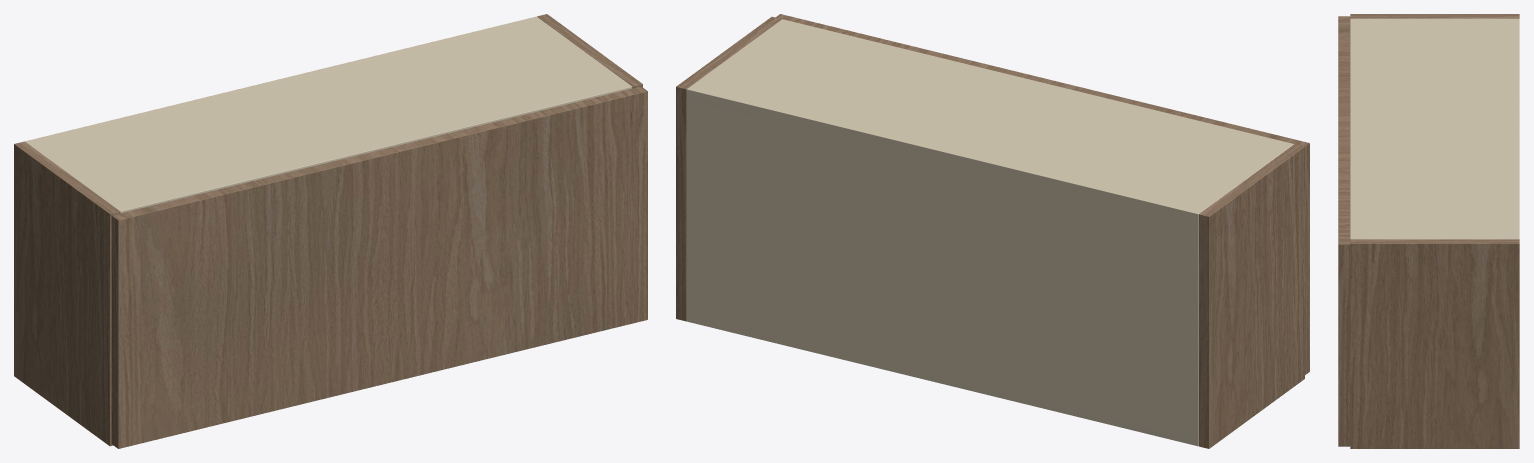
The model's file is oppein-ply-mnw-wsl3615.glb.
The picture shows the model from 3 angles, left to right: view 1: azimuth 30°, elevation 25°; view 2: azimuth 150°, elevation 25°; view 3: azimuth 270°, elevation 25°; orthographic projection. The views are drawn at different scales.
Parts seen in each view (by area): view 1: Door, Cabinet top, Cabinet side, Cabinet back, Cabinet side.001; view 2: Cabinet back, Cabinet top, Cabinet side, Door, Cabinet side.001, Cabinet bottom; view 3: Cabinet top, Cabinet side.001, Door, Cabinet back, Cabinet side.
Boxes of the visible parts, box(x1,y1,x2,y2) form: Door: box(111, 86, 647, 448); Cabinet top: box(25, 16, 632, 213); Cabinet side: box(14, 141, 120, 446); Cabinet back: box(25, 16, 539, 143); Cabinet side.001: box(537, 14, 642, 88); Cabinet back: box(686, 86, 1201, 446); Cabinet top: box(686, 19, 1293, 224); Cabinet side: box(1199, 144, 1304, 448); Door: box(776, 14, 1309, 374); Cabinet side.001: box(676, 16, 781, 321); Cabinet bottom: box(686, 311, 1198, 445); Cabinet top: box(1350, 18, 1519, 239); Cabinet side.001: box(1350, 239, 1519, 448); Door: box(1338, 16, 1350, 446); Cabinet back: box(1513, 18, 1519, 239); Cabinet side: box(1350, 14, 1519, 18).
Size of the model in its own units: 0.9144 by 0.381 by 0.3048.
Materials: 2 (1 with a texture image).
